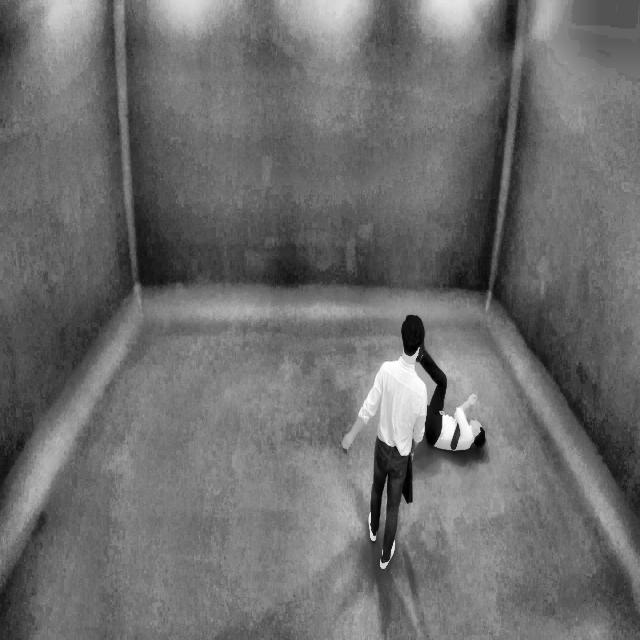assult: (341, 287, 501, 574)
